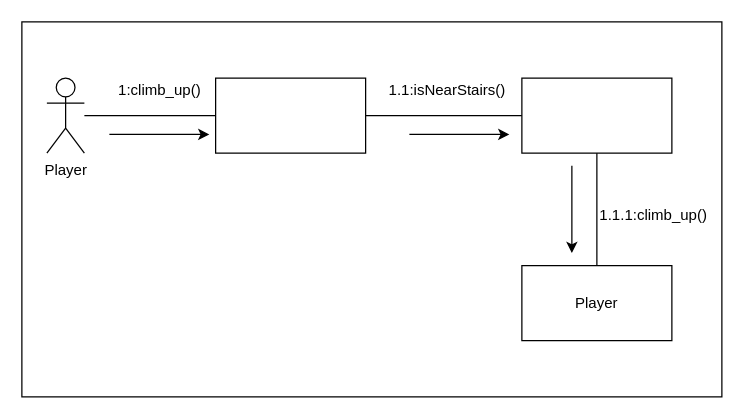
The diagram is 744 pixels wide and 419 high, and some of its shapes have lost their labels. The shapes that lost their labels are listed below. From the top down, each one's centre as x and y in pixels, then its label:
At [290,115]: ":Game".
At [596,115]: ":Level".
